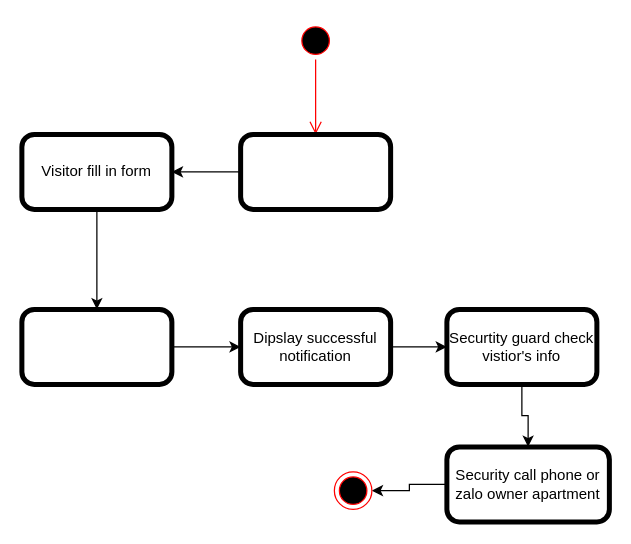
Some shapes in this 631 by 544 pixel diagram are drawn without their labels. The box of each missing label's shape, as (x1, y1, x2, y2) in pixels:
Display register form: (239, 133, 391, 209)
Visitor click on button submit: (21, 308, 172, 384)
